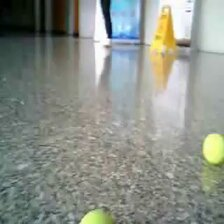tennis: (203, 134, 224, 165)
